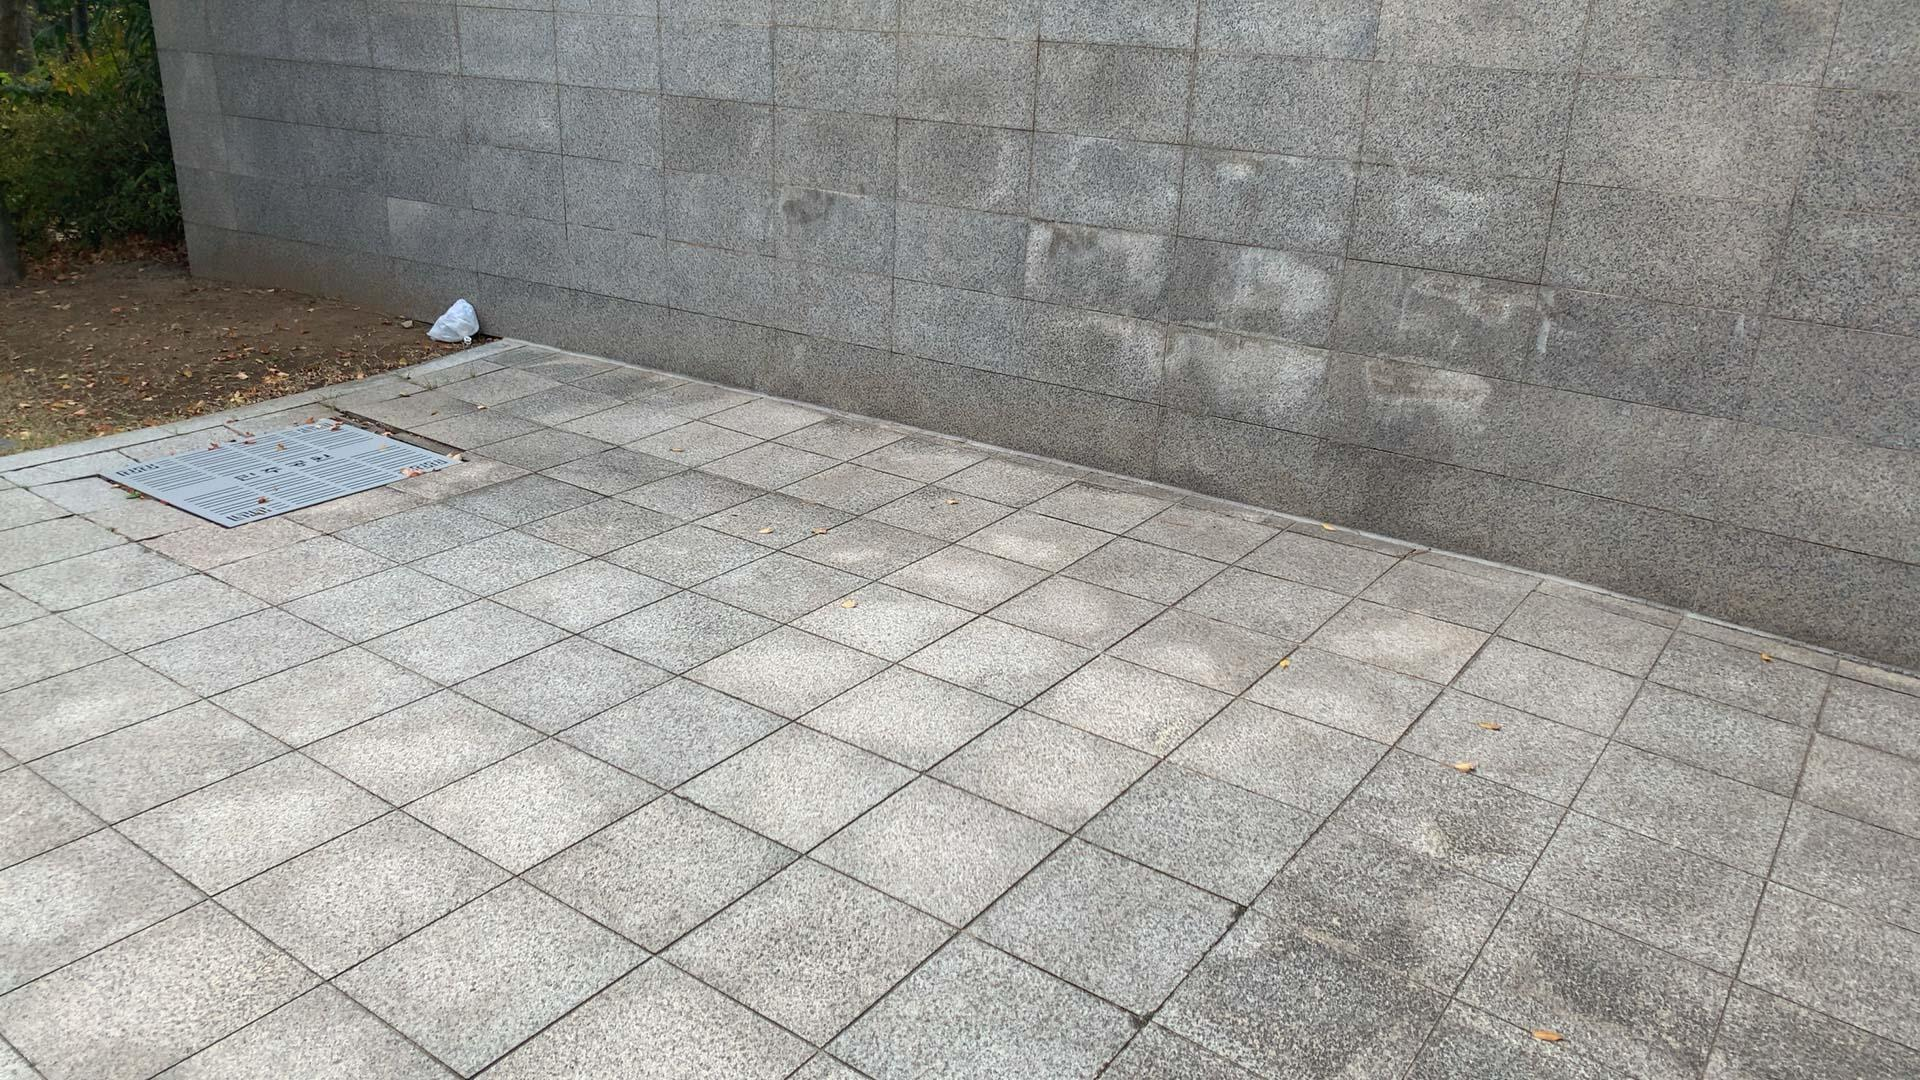white_bag: (418, 294, 487, 352)
